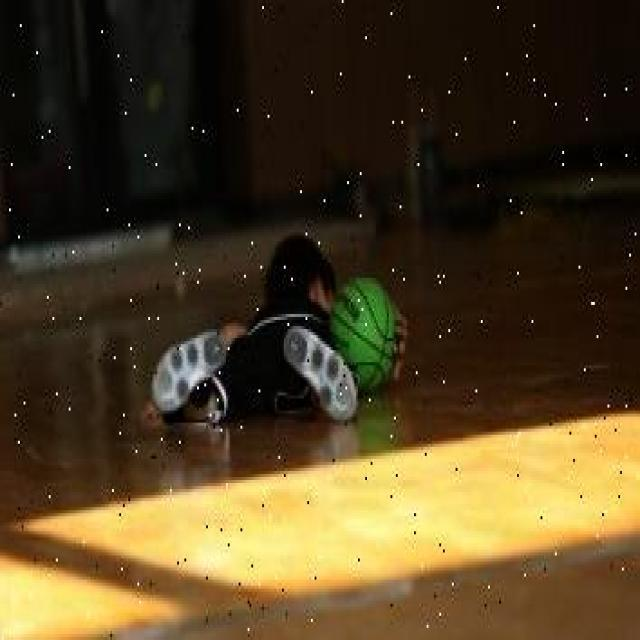fall: (159, 232, 349, 422)
